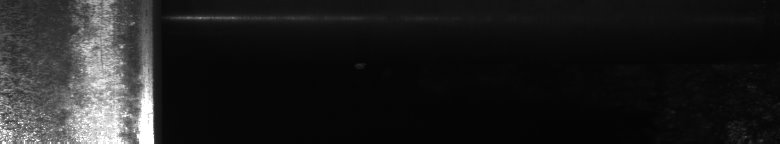kb: (4, 4, 140, 136)
